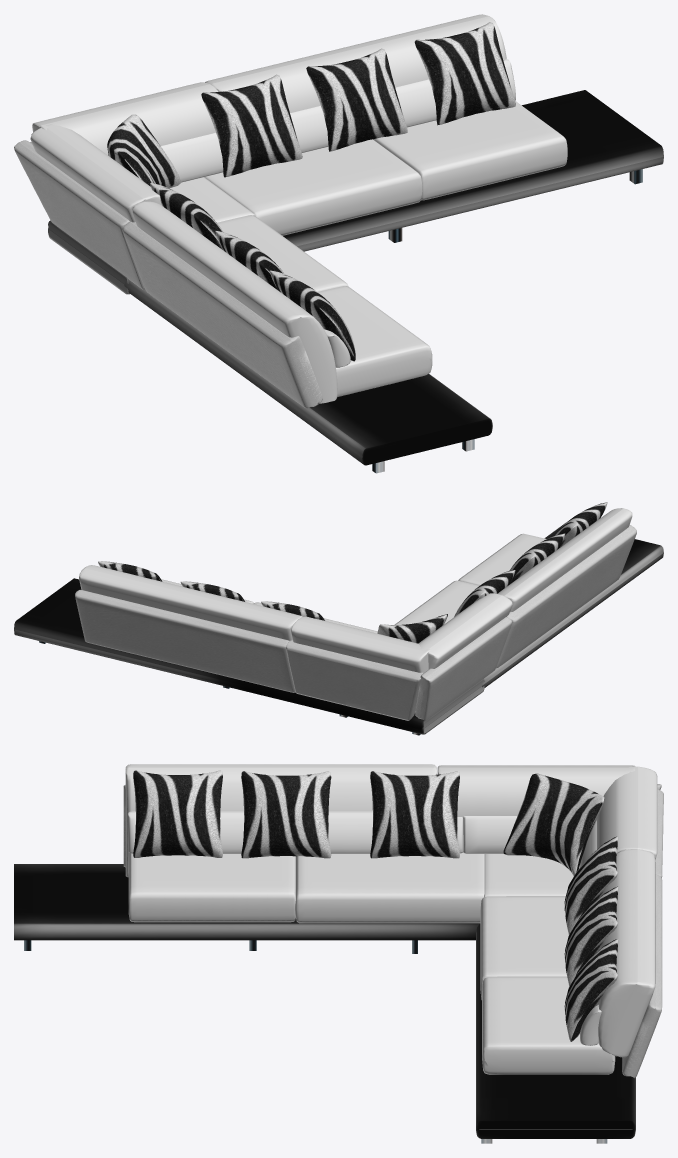
Rendered from gld-modern-white-sofa-w-zebra-pillows.glb.
3 renders of one model, top to bottom at view 1: azimuth 30°, elevation 25°; view 2: azimuth 150°, elevation 25°; view 3: azimuth 270°, elevation 25°, orthographic. The views are drawn at different scales.
Parts seen in each view (by area): view 1: mesh19_Material24-material_0, mesh2_Material7-material_0, mesh8_Material13-material_0, mesh4_Material9-material_0, mesh12_Material17-material_0, mesh5_Material10-material_0, Pillow 6, Pillow 7, Pillow 5, mesh11_Material16-material_0, mesh1_Material6-material_0, mesh18_Material23-material_0 (+10 smaller); view 2: mesh10_Material15-material_0, mesh19_Material24-material_0, mesh17_Material22-material_0, mesh11_Material16-material_0, mesh4_Material9-material_0, mesh18_Material23-material_0, mesh15_Material20-material_0, mesh5_Material10-material_0, mesh16_Material21-material_0, mesh2_Material7-material_0, mesh1_Material6-material_0, mesh3_Material8-material_0 (+7 smaller); view 3: mesh2_Material7-material_0, mesh3_Material8-material_0, mesh19_Material24-material_0, mesh1_Material6-material_0, mesh12_Material17-material_0, mesh11_Material16-material_0, Pillow 3, Pillow 2, Pillow 1, mesh8_Material13-material_0, Pillow 4, mesh5_Material10-material_0 (+11 smaller).
Boxes of the visible parts, bbox=[...] form: mesh19_Material24-material_0: bbox=[48, 90, 663, 294]; mesh2_Material7-material_0: bbox=[124, 279, 492, 465]; mesh8_Material13-material_0: bbox=[204, 139, 422, 235]; mesh4_Material9-material_0: bbox=[122, 221, 322, 408]; mesh12_Material17-material_0: bbox=[373, 101, 567, 200]; mesh5_Material10-material_0: bbox=[132, 201, 337, 403]; Pillow 6: bbox=[306, 48, 407, 151]; Pillow 7: bbox=[414, 22, 515, 125]; Pillow 5: bbox=[201, 74, 302, 177]; mesh11_Material16-material_0: bbox=[205, 14, 506, 112]; mesh1_Material6-material_0: bbox=[317, 286, 432, 396]; mesh18_Material23-material_0: bbox=[14, 140, 144, 289]; mesh10_Material15-material_0: bbox=[75, 589, 295, 692]; mesh19_Material24-material_0: bbox=[14, 578, 484, 734]; mesh17_Material22-material_0: bbox=[286, 640, 423, 720]; mesh11_Material16-material_0: bbox=[79, 565, 302, 640]; mesh4_Material9-material_0: bbox=[496, 525, 636, 668]; mesh18_Material23-material_0: bbox=[415, 617, 511, 720]; mesh15_Material20-material_0: bbox=[291, 616, 430, 672]; mesh5_Material10-material_0: bbox=[497, 508, 632, 612]; mesh16_Material21-material_0: bbox=[416, 593, 512, 705]; mesh2_Material7-material_0: bbox=[482, 523, 663, 687]; mesh1_Material6-material_0: bbox=[458, 533, 546, 585]; mesh3_Material8-material_0: bbox=[394, 580, 479, 624]; mesh2_Material7-material_0: bbox=[14, 864, 479, 940]; mesh3_Material8-material_0: bbox=[295, 852, 484, 923]; mesh19_Material24-material_0: bbox=[476, 924, 635, 1138]; mesh1_Material6-material_0: bbox=[128, 853, 295, 922]; mesh12_Material17-material_0: bbox=[482, 976, 615, 1074]; mesh11_Material16-material_0: bbox=[598, 849, 655, 1057]; Pillow 3: bbox=[370, 771, 459, 858]; Pillow 2: bbox=[241, 771, 331, 858]; Pillow 1: bbox=[133, 770, 222, 857]; mesh8_Material13-material_0: bbox=[480, 896, 568, 999]; Pillow 4: bbox=[503, 773, 604, 876]; mesh5_Material10-material_0: bbox=[125, 764, 436, 877].
Size of the model in its own units: 3.19 by 0.7199 by 3.25.
Materials: 29 (16 with a texture image).
